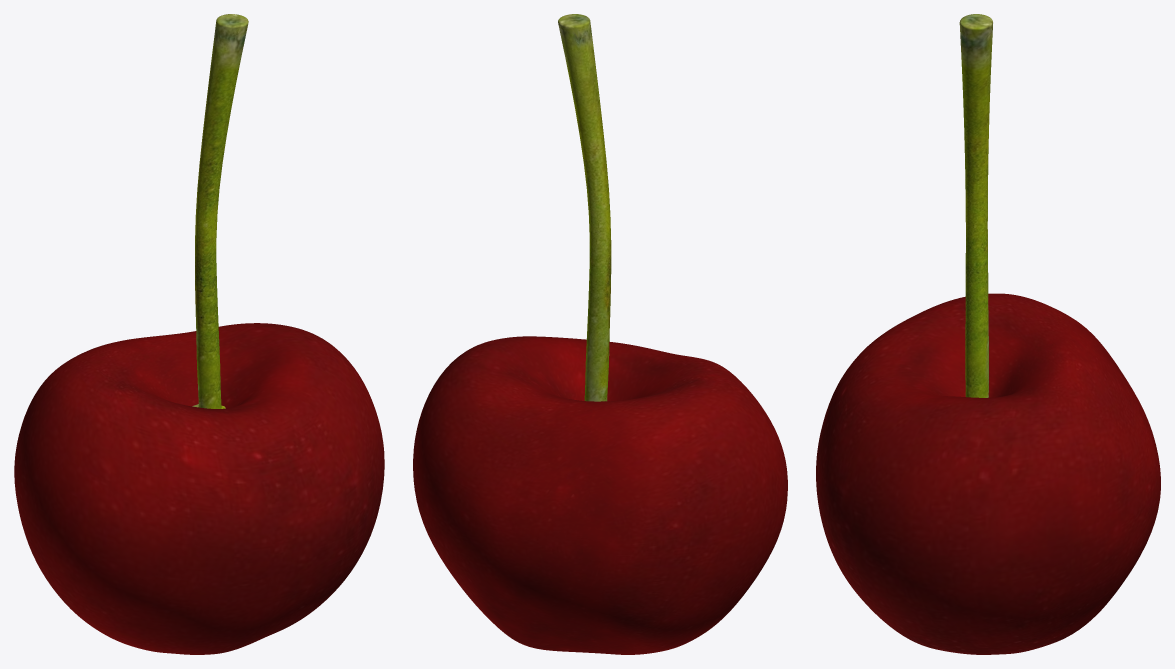
File: SM_Cherry.fbx
3 renders of one model, left to right at view 1: azimuth 30°, elevation 25°; view 2: azimuth 150°, elevation 25°; view 3: azimuth 270°, elevation 25°, orthographic. The views are drawn at different scales.
Visible parts, largest first — view 1: CherryPeel, CherryStalk; view 2: CherryPeel, CherryStalk; view 3: CherryPeel, CherryStalk.
Boxes of the visible parts, x1=… form: CherryPeel: x1=14, y1=323, x2=384, y2=654; CherryStalk: x1=192, y1=14, x2=248, y2=408; CherryPeel: x1=413, y1=336, x2=787, y2=654; CherryStalk: x1=558, y1=14, x2=611, y2=401; CherryPeel: x1=816, y1=293, x2=1160, y2=654; CherryStalk: x1=959, y1=14, x2=992, y2=397.
Size of what is drawn, in the model's own units: 3.81 by 3.33 by 6.68.
